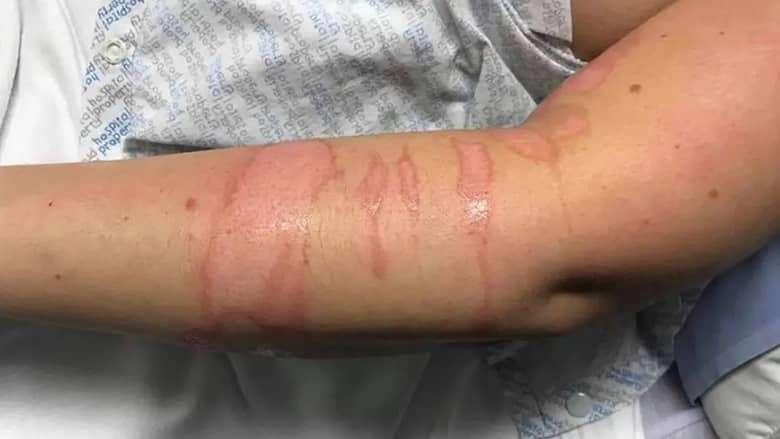burned-skin: (197, 146, 577, 334), (486, 34, 635, 140)
